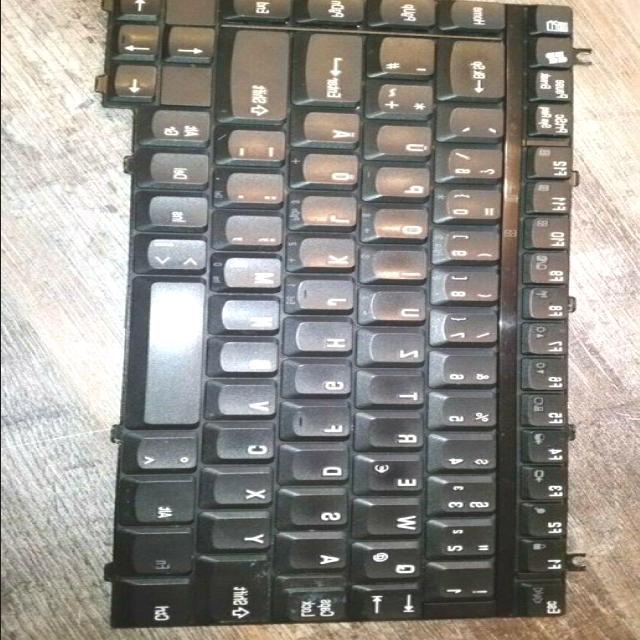0: (445, 192, 509, 224)
1: (435, 570, 499, 602)
2: (430, 525, 500, 561)
3: (433, 482, 501, 519)
4: (438, 440, 502, 474)
5: (439, 398, 503, 432)
6: (441, 357, 503, 389)
7: (440, 312, 504, 347)
8: (438, 273, 505, 305)
9: (440, 233, 506, 265)
a: (290, 540, 352, 572)
accent: (450, 111, 511, 143)
ae: (305, 114, 365, 148)
alt-left: (134, 482, 202, 527)
altgr-right: (150, 112, 217, 150)
b: (222, 344, 286, 378)
c: (218, 430, 282, 464)
caret: (138, 439, 204, 474)
comma: (226, 217, 288, 251)
d: (293, 452, 357, 486)
del: (450, 43, 512, 103)
e: (359, 460, 429, 496)
enter: (306, 36, 370, 110)
f: (292, 408, 359, 442)
g: (297, 367, 359, 399)
h: (299, 324, 359, 356)
hash: (379, 39, 441, 79)
i: (375, 252, 435, 284)
j: (300, 282, 361, 314)
k: (300, 240, 362, 272)
keyboard: (103, 0, 589, 636)
l: (304, 199, 364, 231)
less: (148, 240, 214, 274)
m: (226, 259, 290, 294)
minus: (230, 132, 292, 167)
n: (225, 302, 287, 336)
o: (376, 210, 434, 244)
oe: (304, 156, 364, 190)
p: (379, 169, 437, 203)
plus: (377, 86, 441, 121)
point: (228, 174, 290, 209)
q: (358, 547, 428, 583)
r: (370, 419, 430, 453)
s: (290, 496, 354, 530)
shift-left: (207, 560, 277, 628)
shift-lock: (287, 582, 349, 624)
shift-right: (230, 31, 296, 127)
space: (145, 283, 211, 429)
ss: (446, 151, 510, 185)
strg-left: (127, 587, 197, 633)
t: (369, 376, 431, 408)
tab: (353, 590, 427, 623)
u: (371, 293, 433, 325)
ue: (377, 127, 438, 161)
v: (221, 387, 285, 419)
w: (367, 506, 429, 540)
x: (216, 476, 280, 508)
y: (214, 520, 278, 554)
z: (371, 336, 432, 366)
